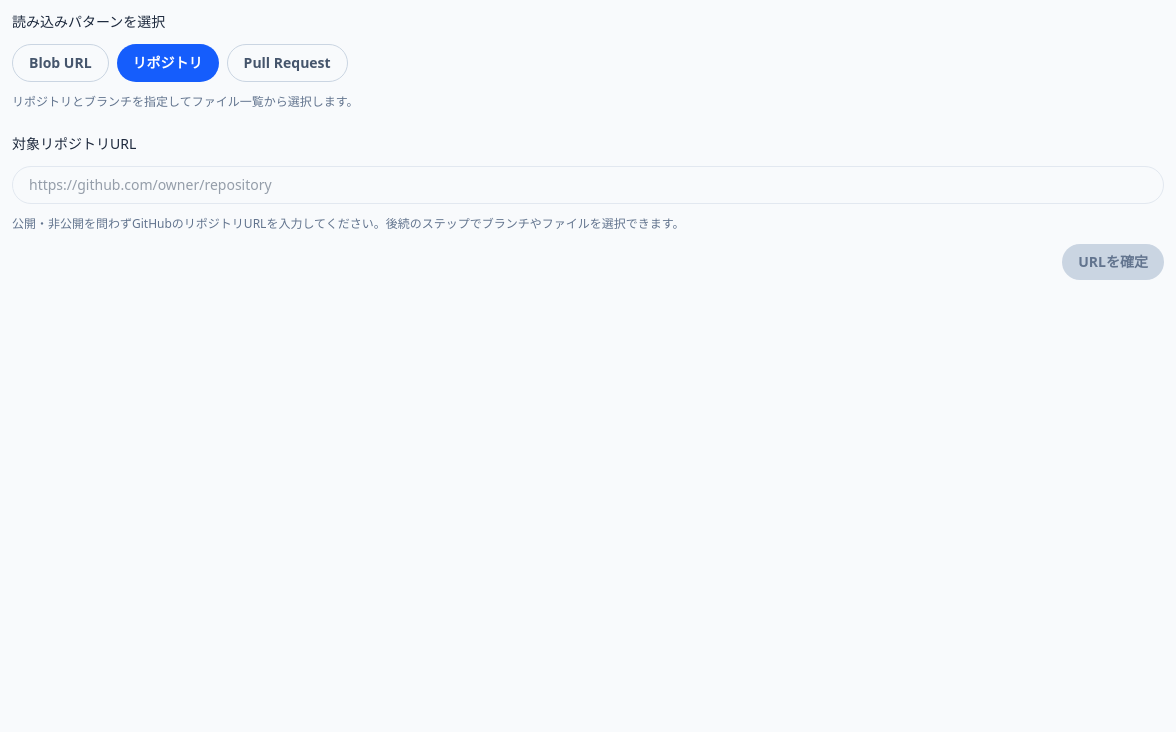
Test: GithubIntegrationPanel › shows error when non-yaml file is selected
In the field with test id "repository-url-input": (588, 185) [12,166,1164,204], type "https://github.com/example/repo"
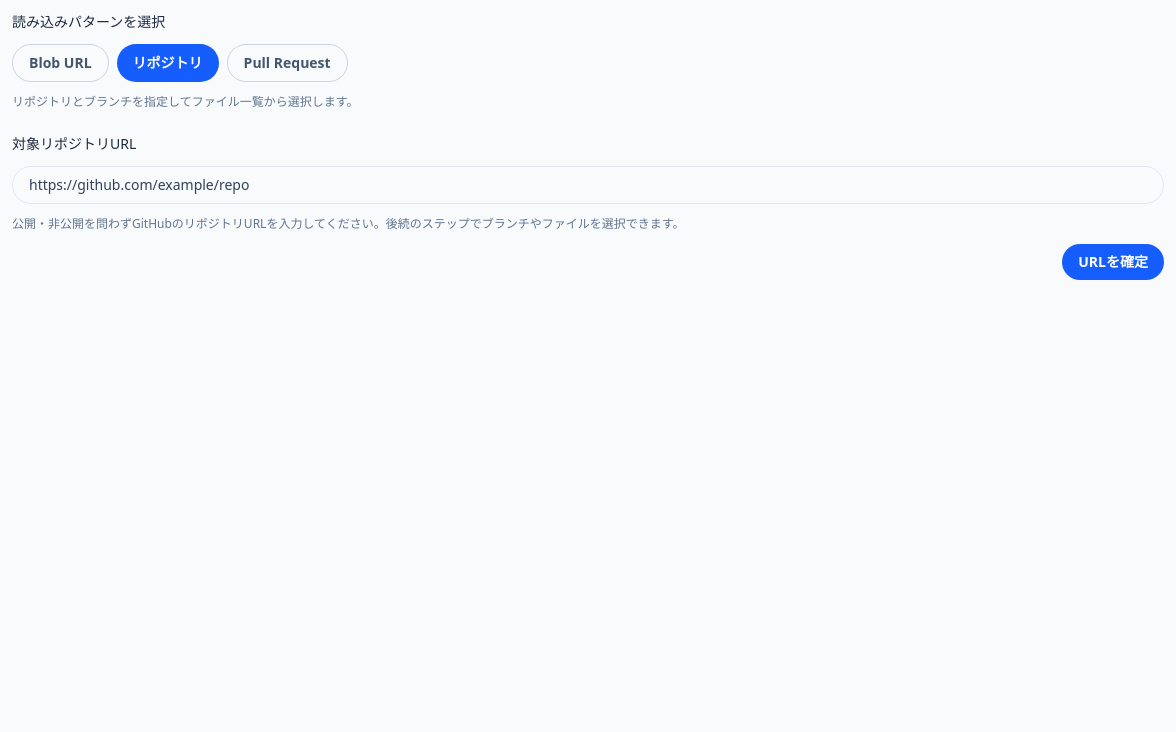
Submit the form with test id "repository-url-form", box [12,134,1164,280]
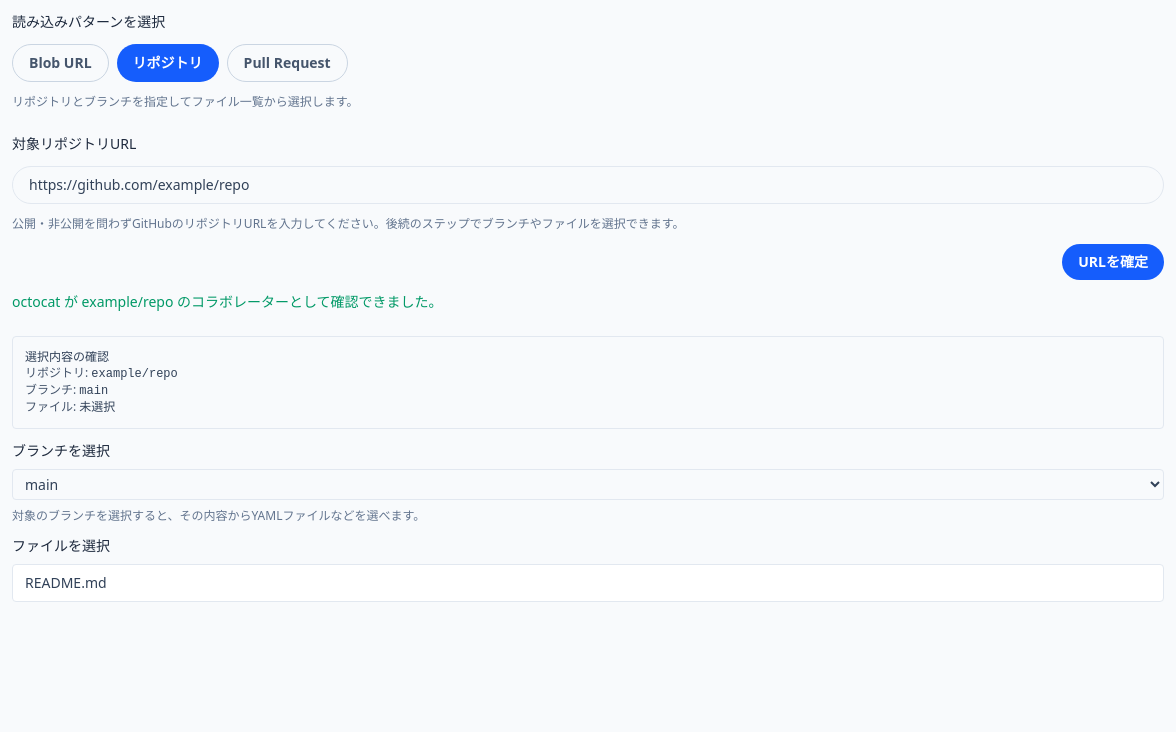
Click the button with test id "repository-tree-item": (66, 582) [13,565,1163,601]
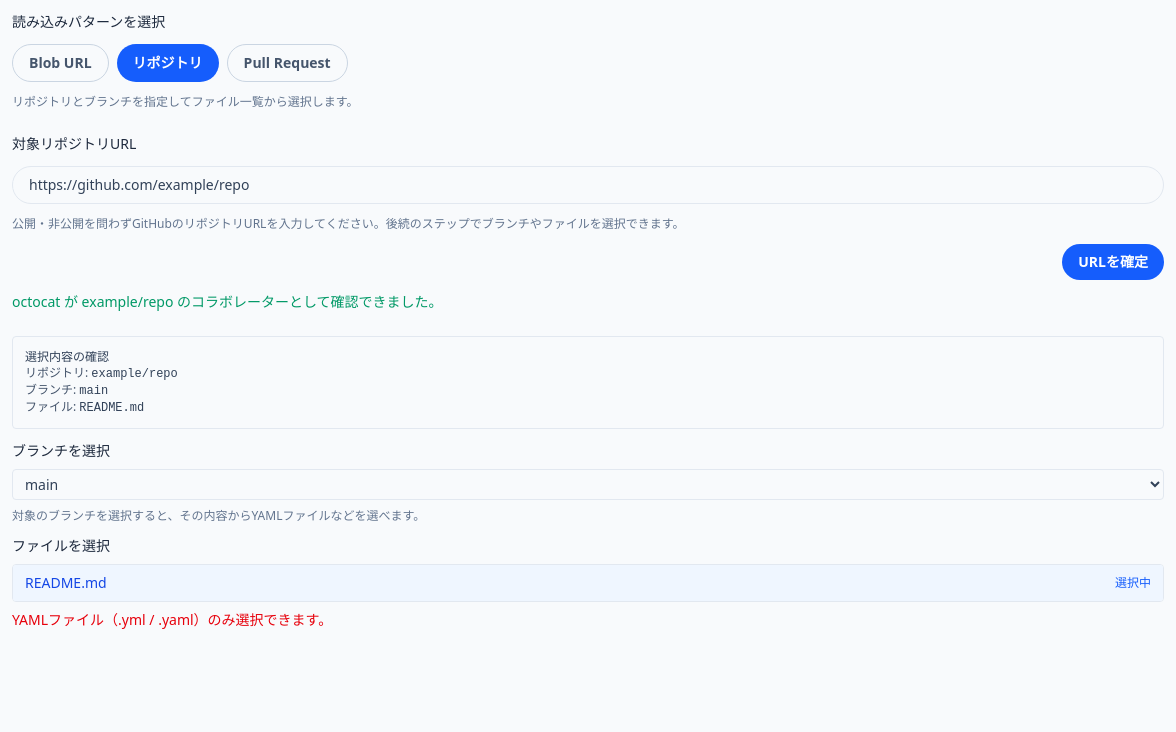
Expected: the message with test id "repository-file-error" reads "YAMLファイル（.yml / .yaml）のみ選択できます。", [12,610,332,629]
